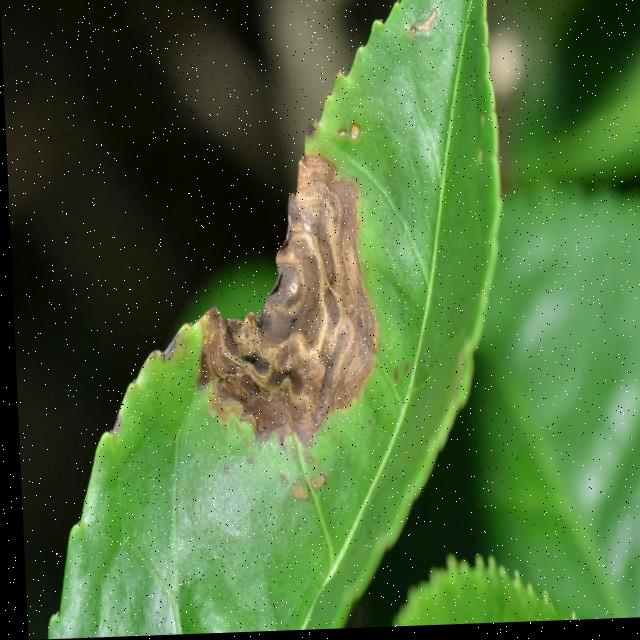Tea cloud leaf blight: (187, 153, 391, 435)
